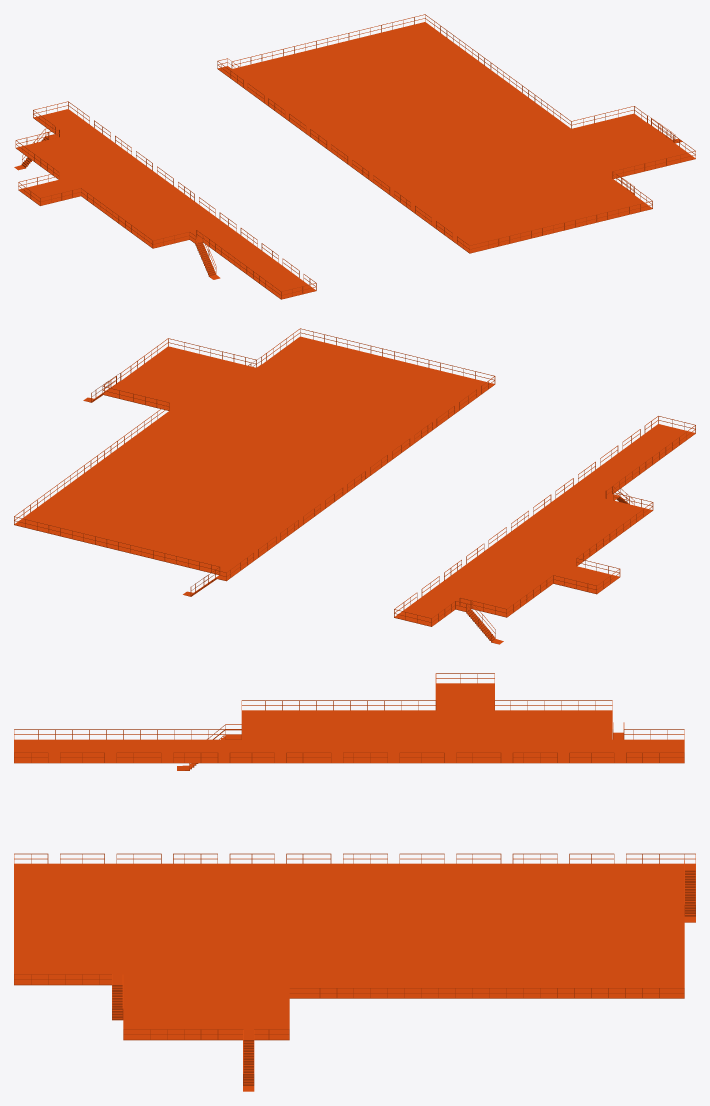
File: Mezzanine.fbx
3 views of the same model, one above another, from view 1: azimuth 30°, elevation 25°; view 2: azimuth 150°, elevation 25°; view 3: azimuth 270°, elevation 25° (orthographic). The views are drawn at different scales.
Visible parts, largest first — view 1: Mezzanine; view 2: Mezzanine; view 3: Mezzanine.
Part boxes in pixels (x1=…): Mezzanine: x1=14, y1=14, x2=695, y2=299; Mezzanine: x1=14, y1=328, x2=695, y2=644; Mezzanine: x1=14, y1=673, x2=695, y2=1091.
Size of the model in its own units: 9601 by 495 by 7344.
